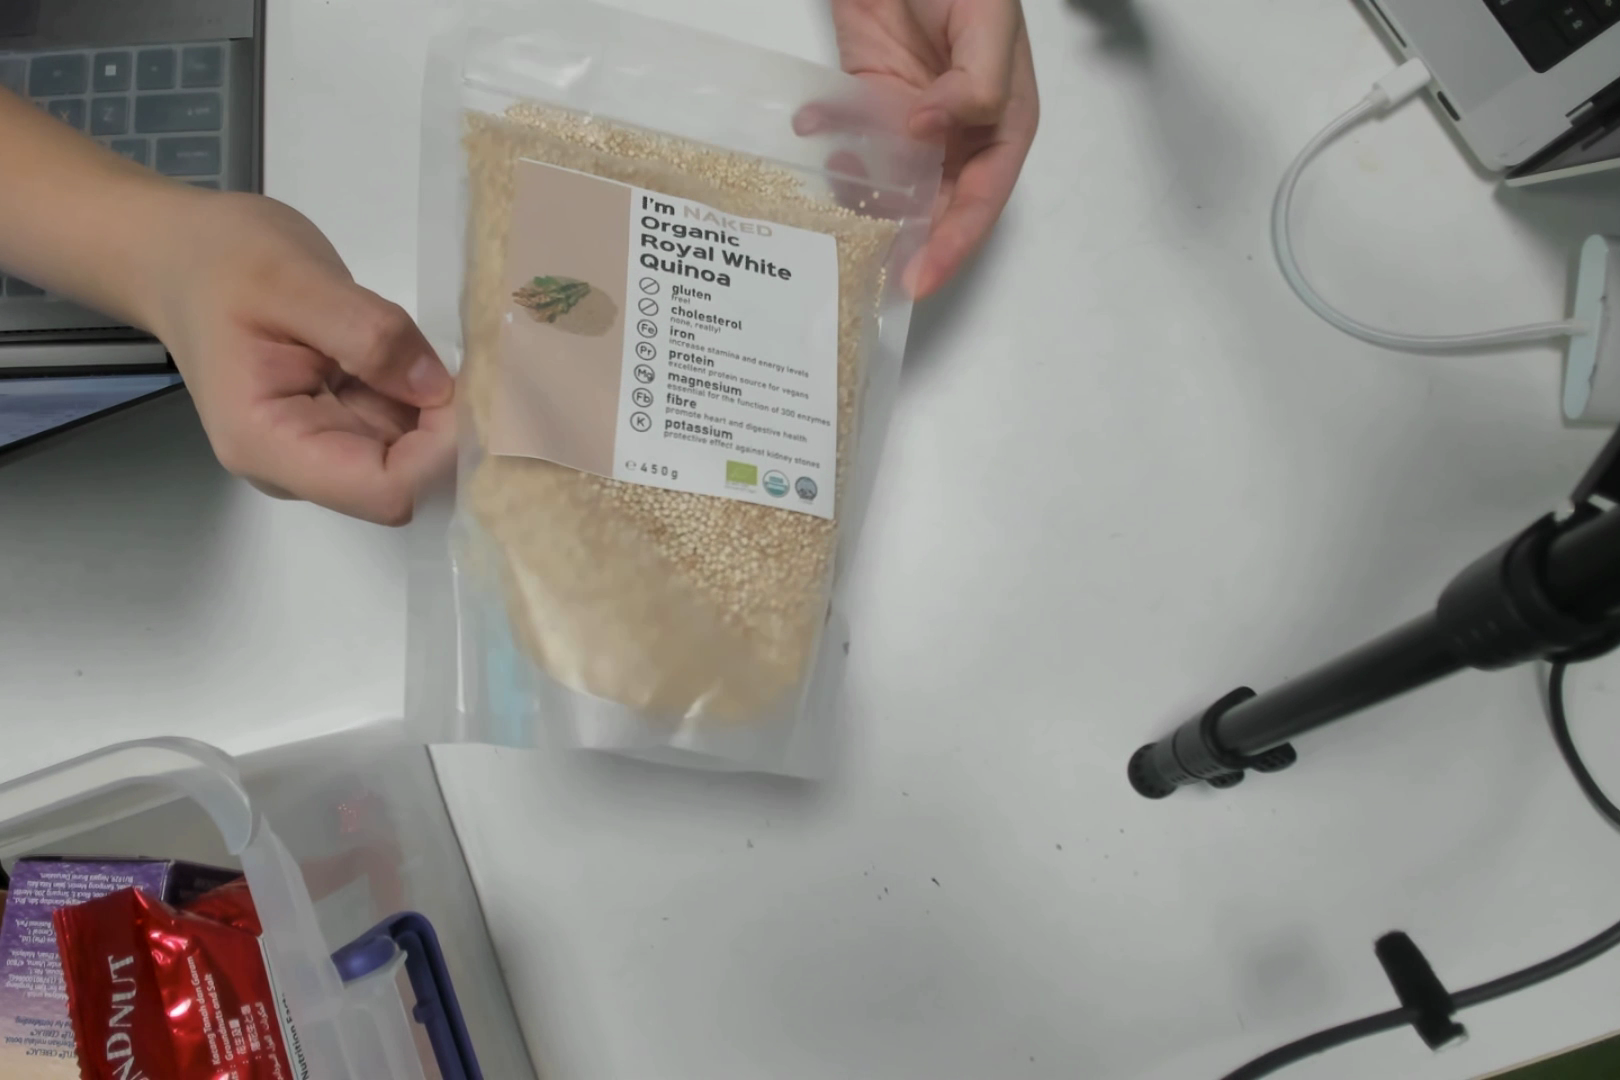Rice(brown-others)_400-499g_Halal_NonHealthy: (470, 53, 868, 812)
